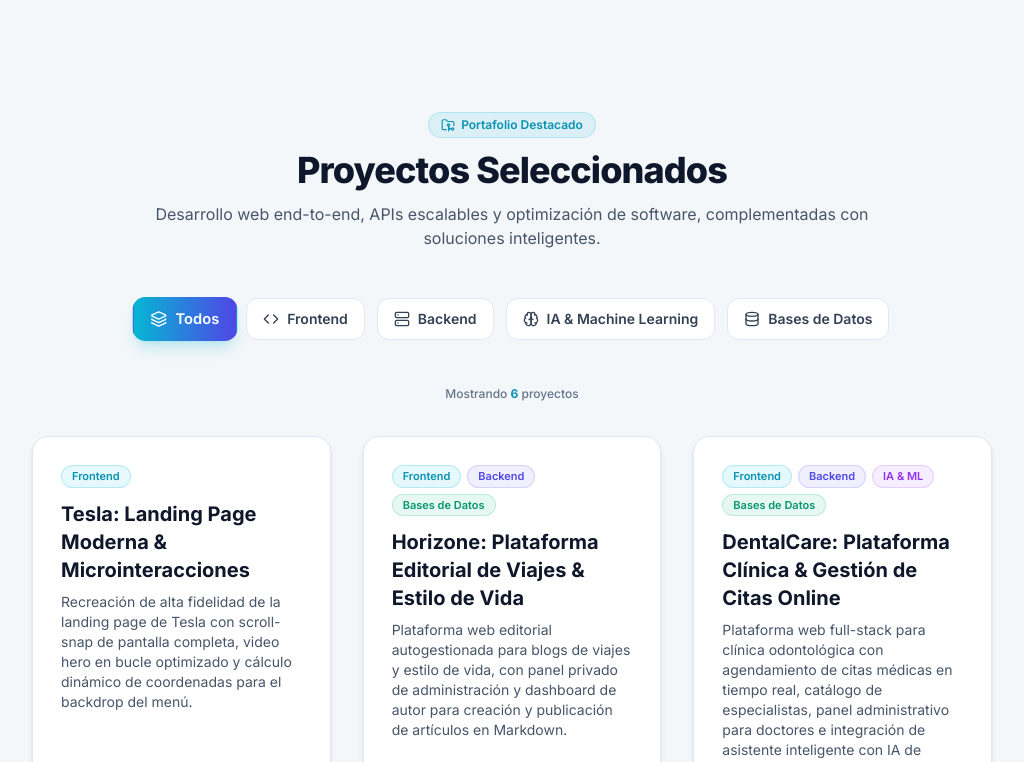
Test: Interactive Projects Component › filters projects dynamically by category
# Filter by frontend (4 projects: tesla, blog, dental, credit-simulator)
Click the tab with test id "project-filter-frontend" at (306, 319), box [246,298,365,340]
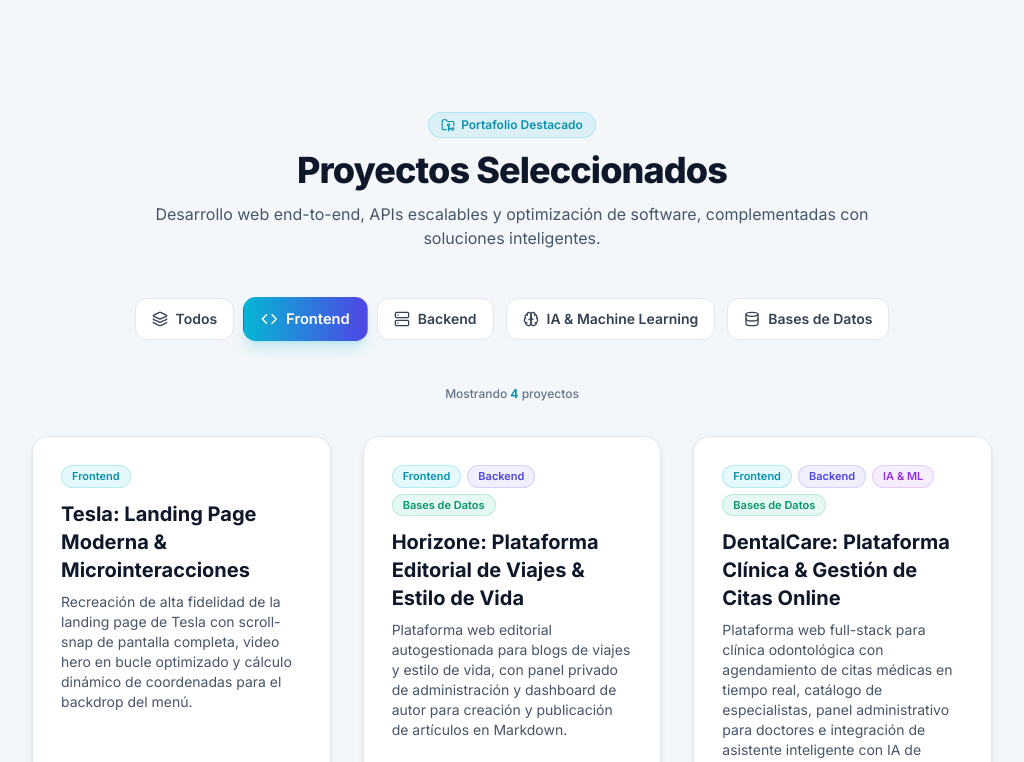
# Filter by AI (4 projects: dental, credit-simulator, keras-mnist, data-analysis)
Click the tab with test id "project-filter-ai" at (610, 319), box [506,298,715,340]
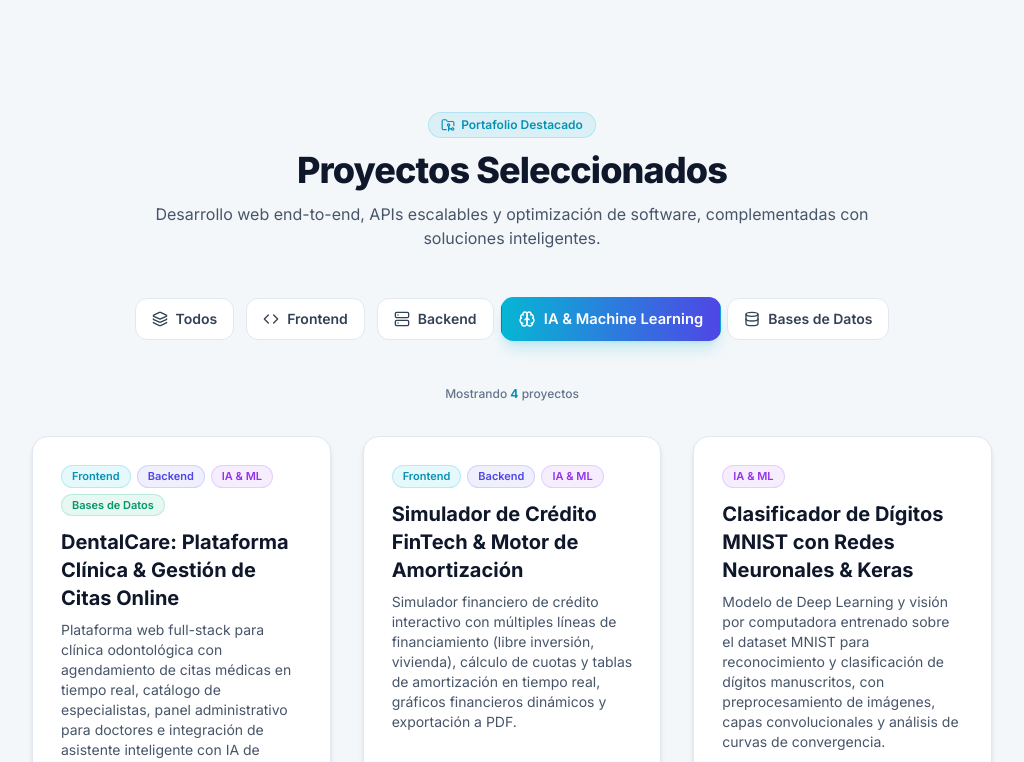
Expected: the number of elements with test id "project-card" is 4
# Filter by database (3 projects: blog, dental, data-analysis)
Click the tab with test id "project-filter-database" at (808, 319), box [727,298,890,340]
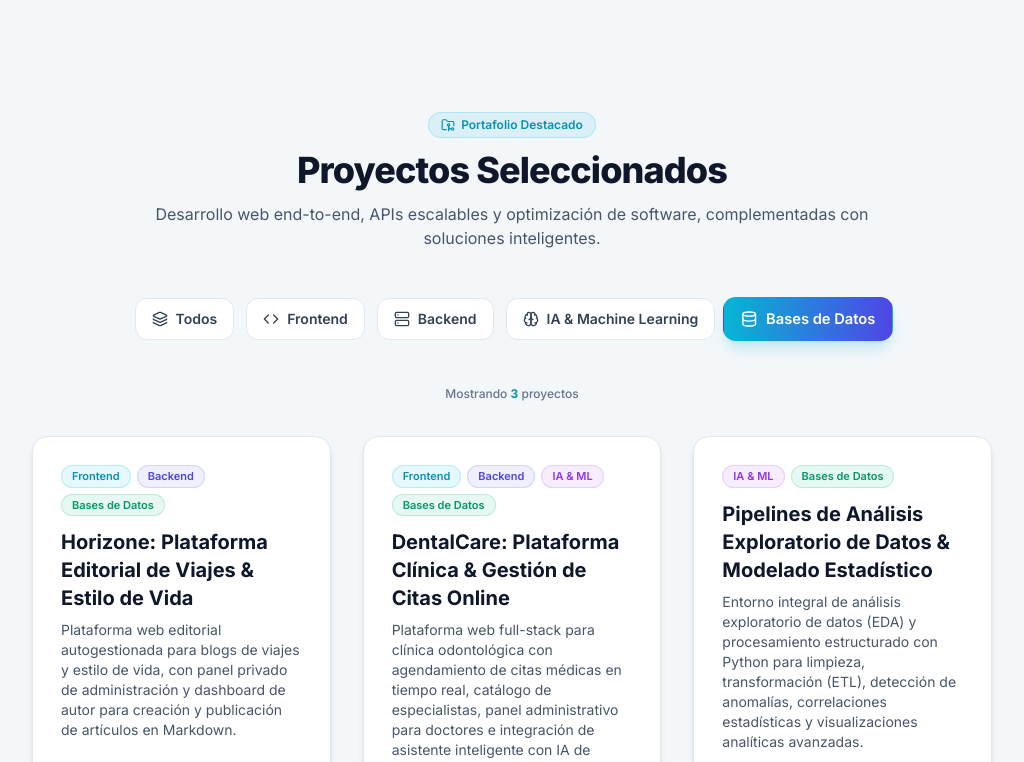
# Return to All
Click the tab with test id "project-filter-all" at (184, 319), box [135,298,234,340]
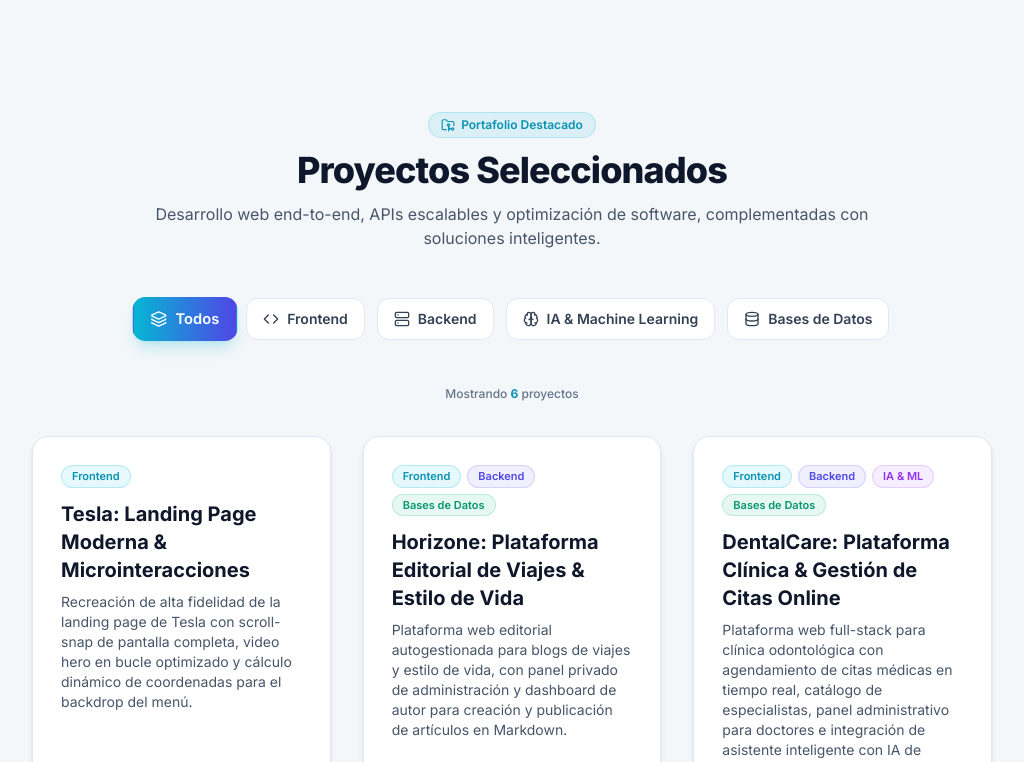
Expected: the number of elements with test id "project-card" is 6
